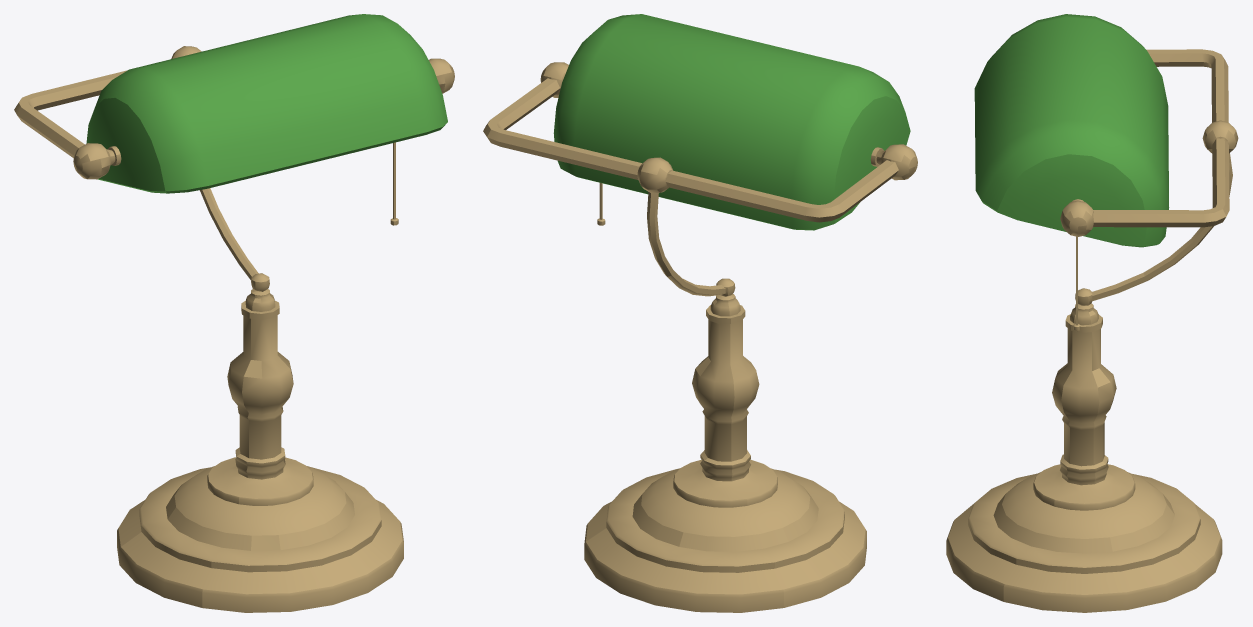
The model's file is Prop_BankersLamp.glb.
The picture shows the model from 3 angles, left to right: view 1: azimuth 30°, elevation 25°; view 2: azimuth 150°, elevation 25°; view 3: azimuth 270°, elevation 25°; orthographic projection. The views are drawn at different scales.
Visible parts, largest first — view 1: Prop_BankersLamp; view 2: Prop_BankersLamp; view 3: Prop_BankersLamp.
Boxes of the visible parts, bbox=[...] form: Prop_BankersLamp: bbox=[14, 14, 454, 612]; Prop_BankersLamp: bbox=[483, 14, 917, 612]; Prop_BankersLamp: bbox=[946, 14, 1238, 612].
Size of the model in its own units: 0.4738 by 0.61 by 0.3321.
